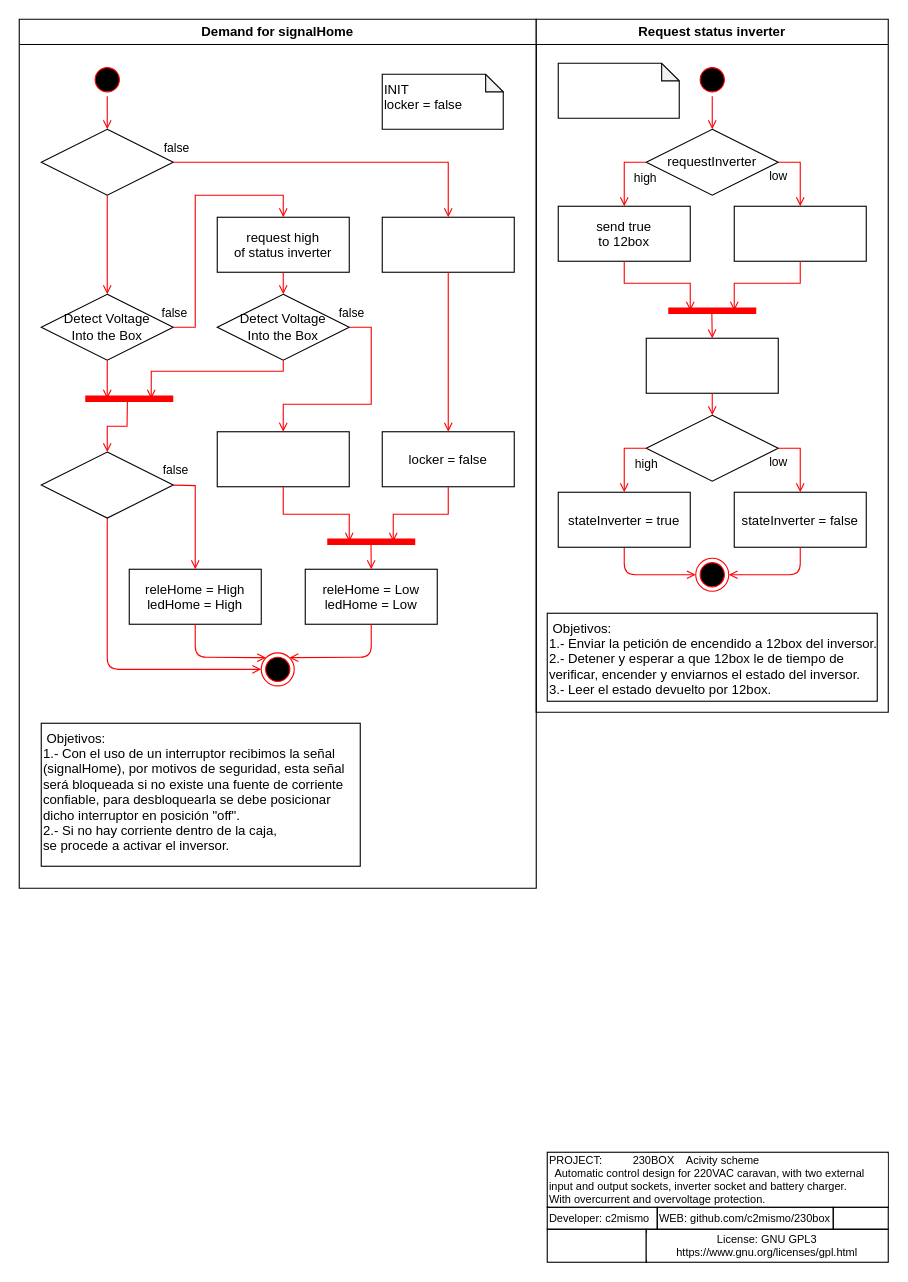
Image size: 908x1282. Some labels were removed from this diagram. Each missing label, with the centre of its shape:
"Date: 02-02-2021 Place: Málaga" belongs at (596,1245).
"Delay 100" belongs at (711,365).
"INIT stateInverter = false" belongs at (618,90).
"locker" belongs at (106,484).
"locker = true" belongs at (282,459).
"Page 3/3" belongs at (860,1217).
"read stateInverter from 12box" belongs at (711,447).
"request low of status inverter" belongs at (447,244).
"send false to 12box" belongs at (799,233).
"signalHome" belongs at (106,161).
